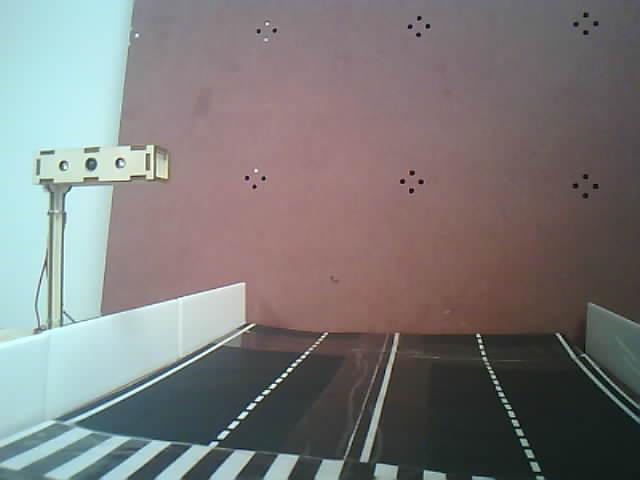crosswalk: (0, 398, 537, 479)
no: (10, 130, 184, 322)
